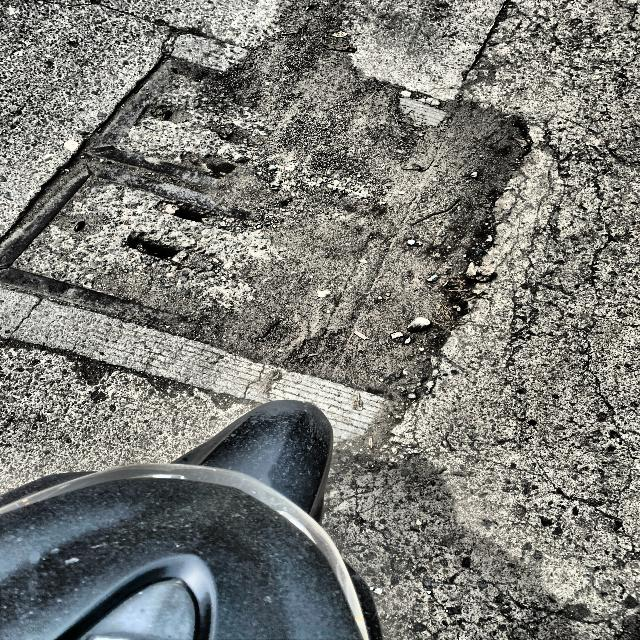clogged_drains: (12, 100, 529, 392)
